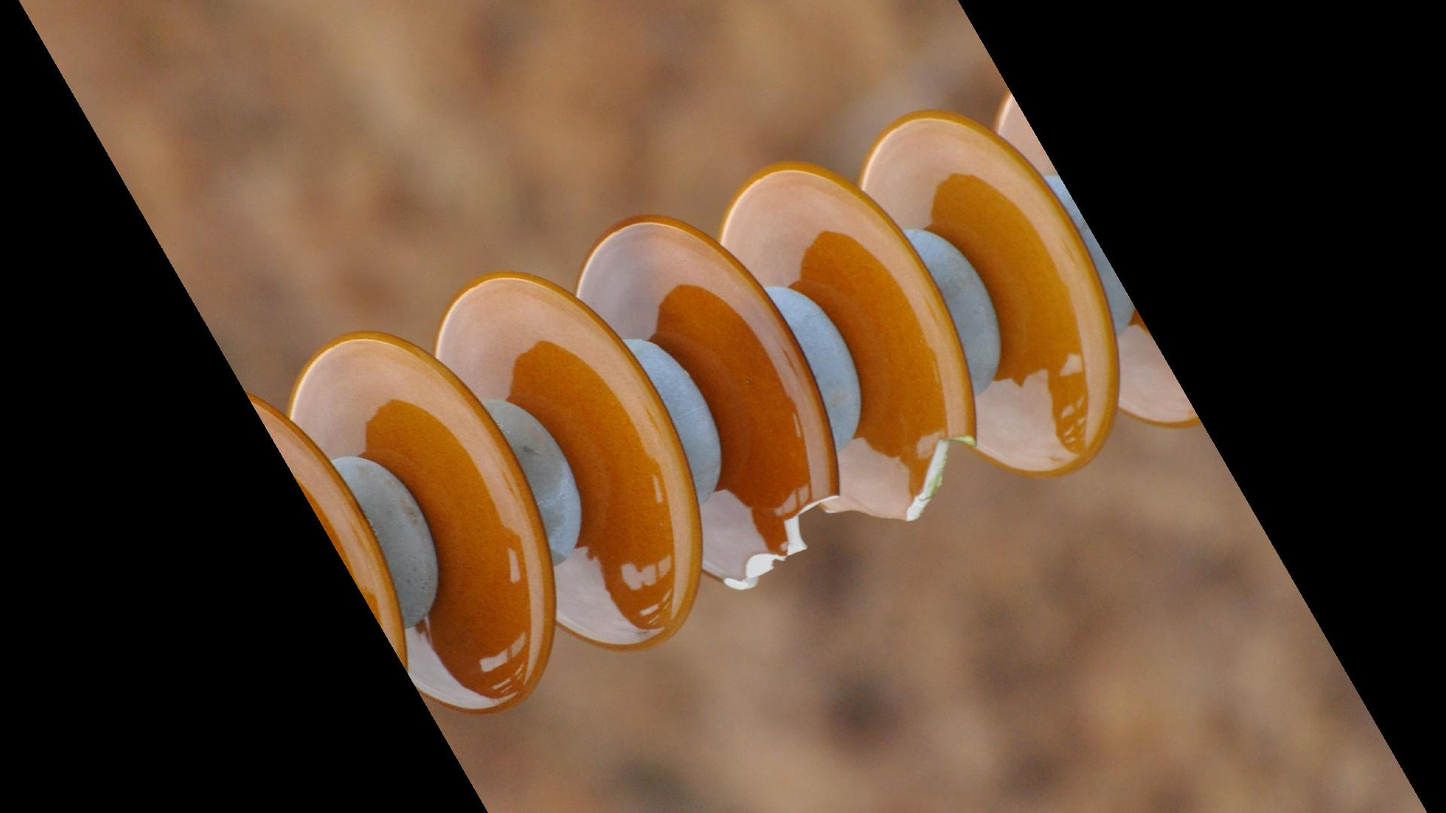insulator: (263, 86, 1207, 722)
insulator_breakage: (701, 478, 852, 599), (862, 416, 992, 539)
